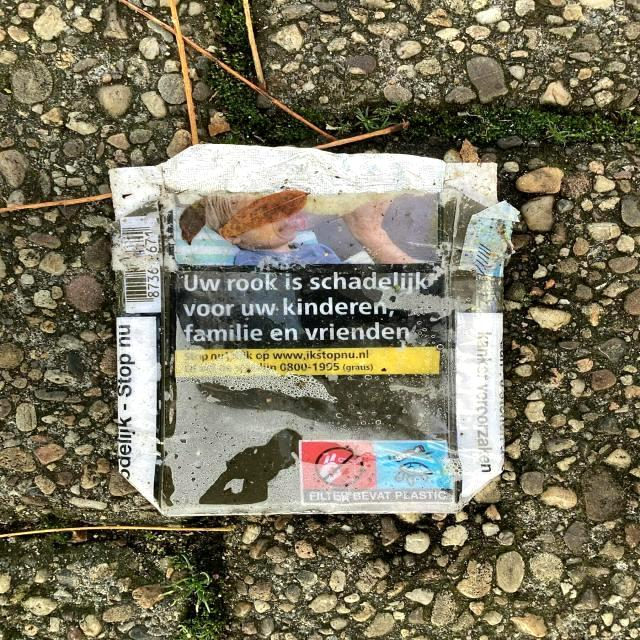Paper: (101, 140, 523, 522)
